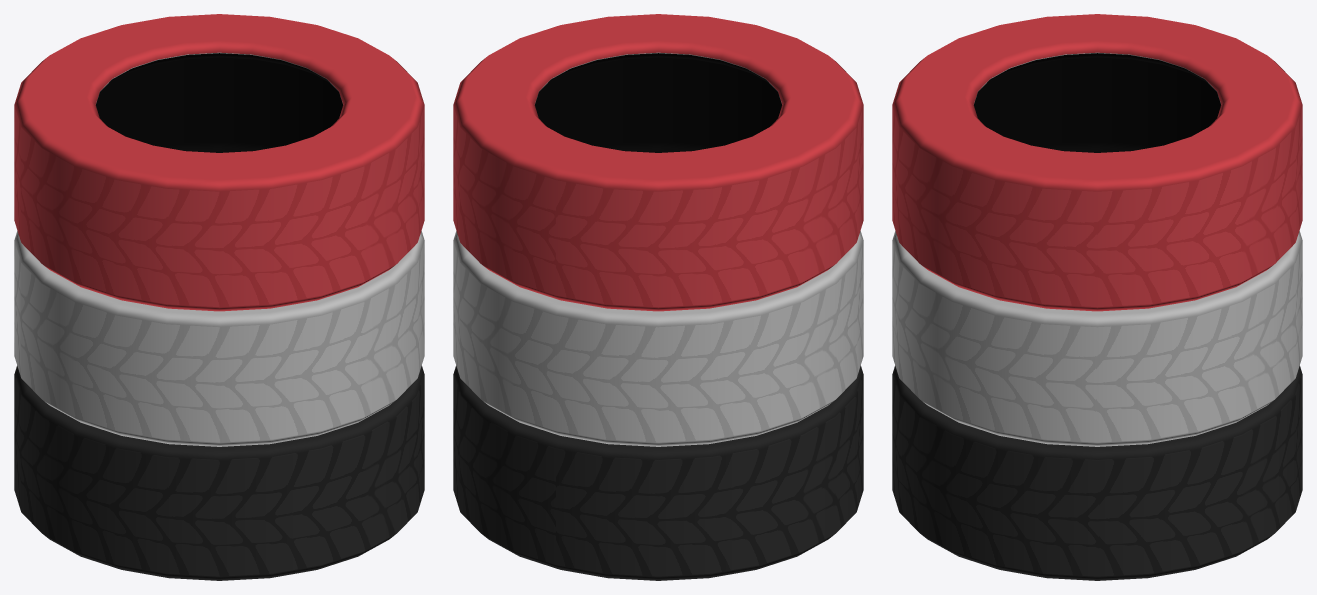
The model's file is Tire-barrier_3-color.fbx.
3 views of the same model, side by side, from view 1: azimuth 30°, elevation 25°; view 2: azimuth 150°, elevation 25°; view 3: azimuth 270°, elevation 25° (orthographic).
Parts seen in each view (by area): view 1: Tire-barrier_3-color; view 2: Tire-barrier_3-color; view 3: Tire-barrier_3-color.
Part boxes in pixels (left/top/right/bottom): Tire-barrier_3-color: left=14, top=14, right=424, bottom=580; Tire-barrier_3-color: left=453, top=14, right=863, bottom=580; Tire-barrier_3-color: left=892, top=14, right=1302, bottom=580.
Size of the model in its own units: 91.6 by 98.8 by 91.6.
